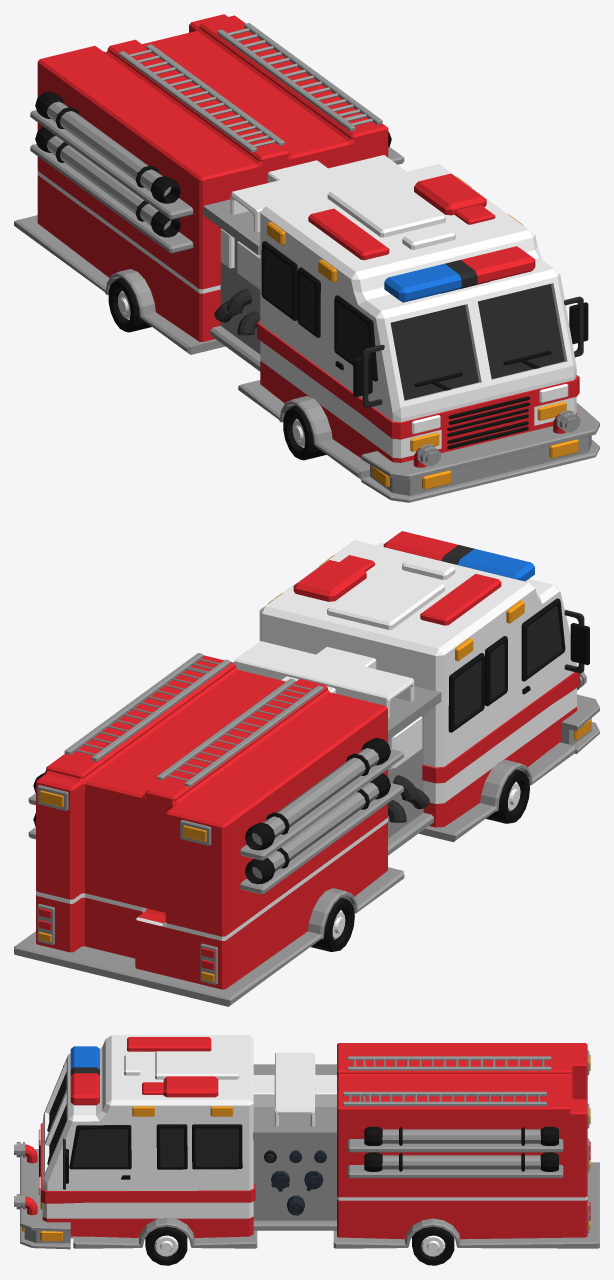
File: Bolun_Firetruck.fbx
The picture shows the model from 3 angles, top to bottom: view 1: azimuth 30°, elevation 25°; view 2: azimuth 150°, elevation 25°; view 3: azimuth 270°, elevation 25°; orthographic projection. The views are drawn at different scales.
Parts seen in each view (by area): view 1: polySurface517; view 2: polySurface517; view 3: polySurface517.
Part boxes in pixels (x1,y1,x2,y2): polySurface517: (14,14,599,502); polySurface517: (14,531,599,1006); polySurface517: (14,1035,599,1265).
Size of the model in its own units: 169 by 149 by 477.
